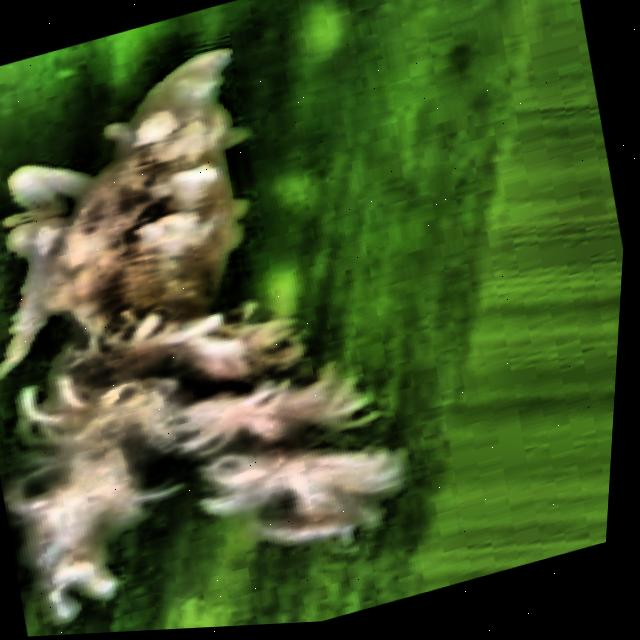Pyrilla-perpusilla: (0, 0, 547, 640)
